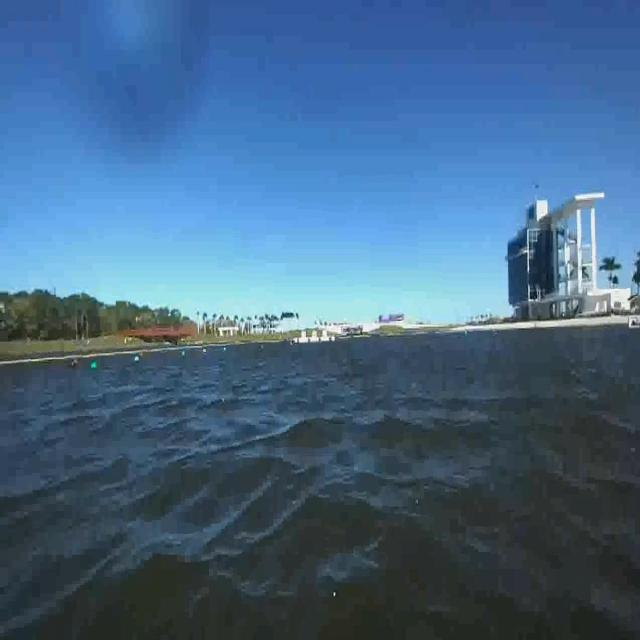green-buoy: (89, 358, 100, 374)
